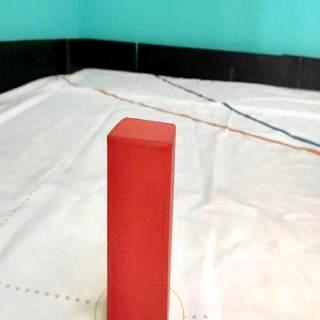redbox: (106, 116, 176, 320)
